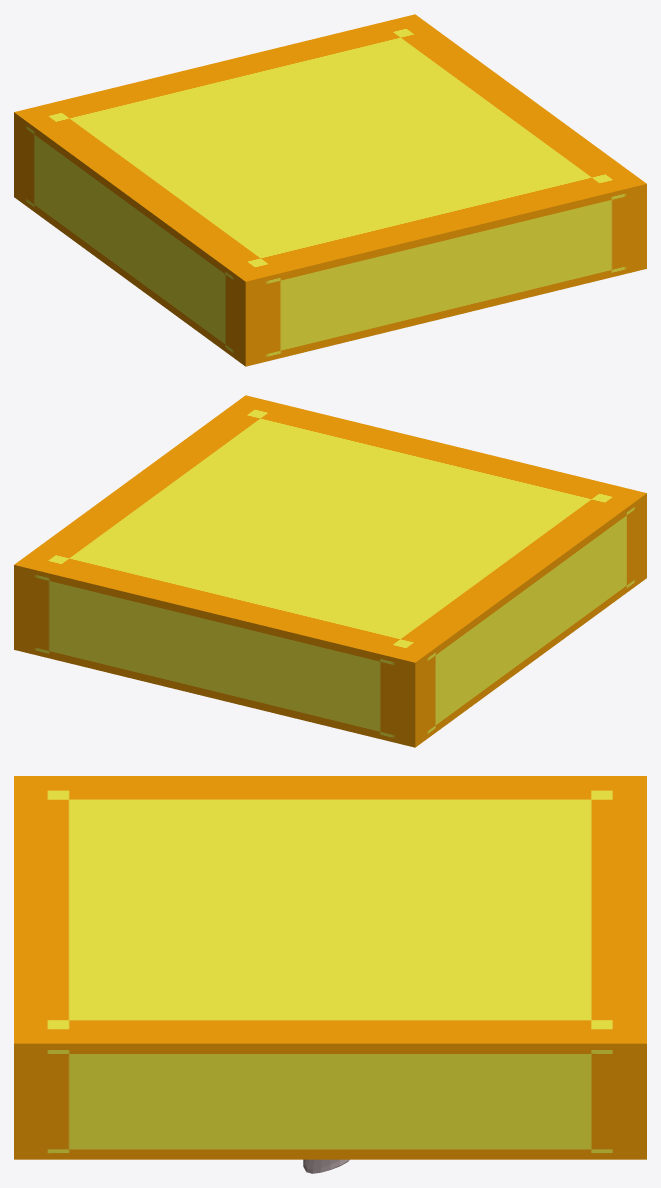
The model's file is ukiyuka.fbx.
The picture shows the model from 3 angles, top to bottom: view 1: azimuth 30°, elevation 25°; view 2: azimuth 150°, elevation 25°; view 3: azimuth 270°, elevation 25°; orthographic projection. The views are drawn at different scales.
Visible parts, largest first — view 1: Cube; view 2: Cube; view 3: Cube.
Boxes of the visible parts, x1,y1,x2,y2 form: Cube: [14, 14, 646, 366]; Cube: [14, 395, 646, 747]; Cube: [14, 776, 646, 1159].
Size of the model in its own units: 2 by 0.6181 by 2.
Materials: 2 (2 with a texture image).
